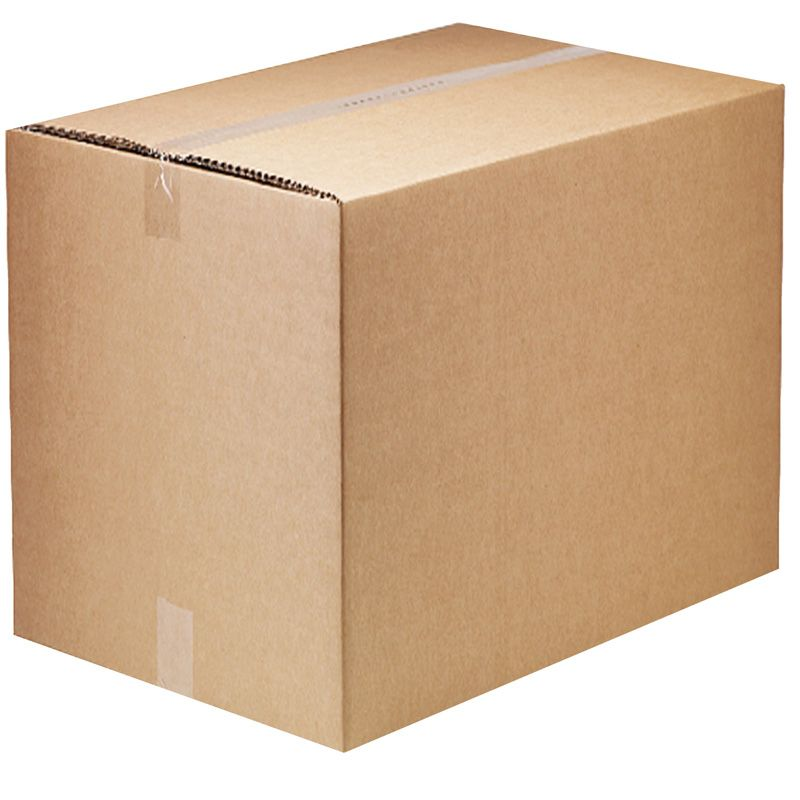Rec_Paper: (9, 14, 799, 738)
